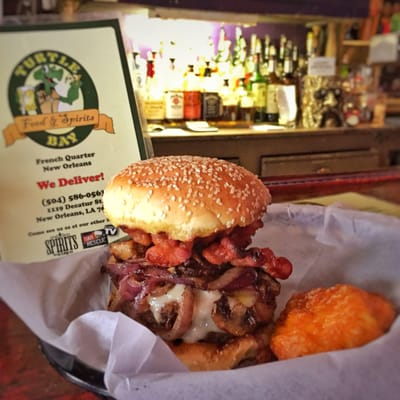soup: (101, 155, 293, 368)
